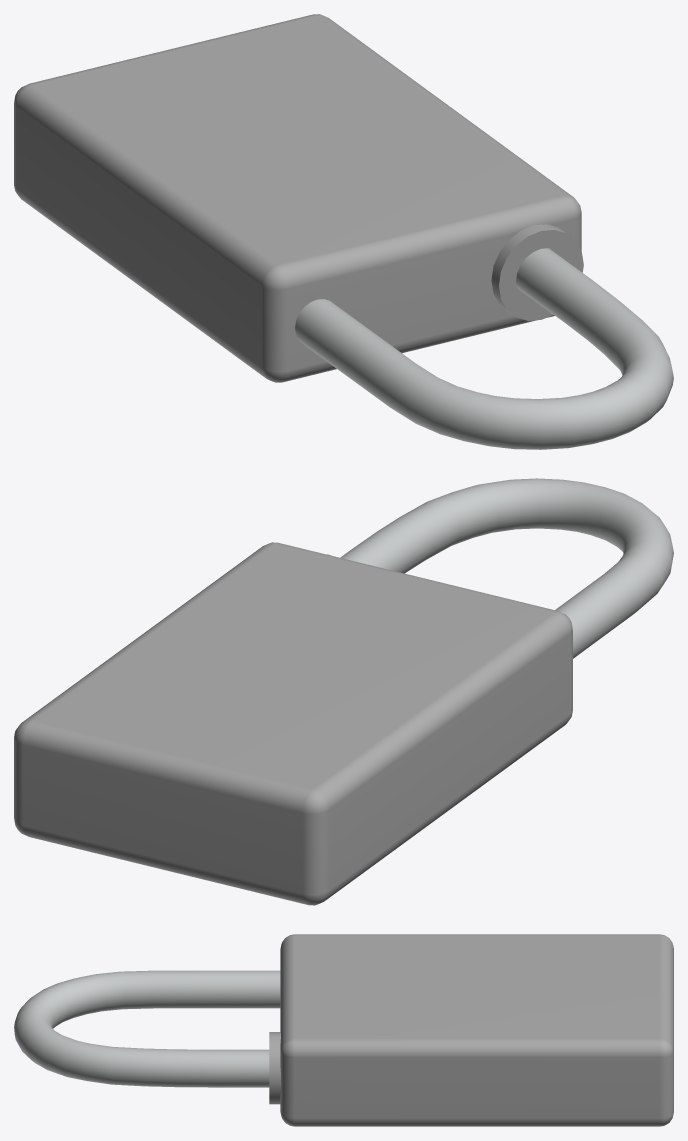
File: Lock.fbx
The picture shows the model from 3 angles, top to bottom: view 1: azimuth 30°, elevation 25°; view 2: azimuth 150°, elevation 25°; view 3: azimuth 270°, elevation 25°; orthographic projection. The views are drawn at different scales.
Visible parts, largest first — view 1: polySurface26, polySurface24; view 2: polySurface26, polySurface24; view 3: polySurface26, polySurface24.
Boxes of the visible parts, <box> form: polySurface26: <box>14,14,583,382</box>; polySurface24: <box>295,248,673,449</box>; polySurface26: <box>14,542,572,905</box>; polySurface24: <box>340,478,673,658</box>; polySurface26: <box>269,934,673,1126</box>; polySurface24: <box>14,970,280,1087</box>.
Bounding box in the file's own units: 0.00177 × 0.000622 × 0.00429.
